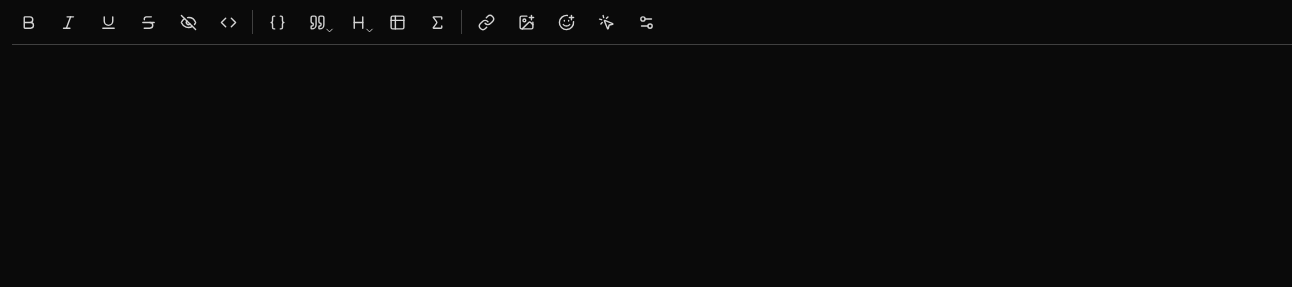
Test case: TelegramTextEditorToolbar › renders heading choices in a viewport-level menu
Click the button named "Heading": (357, 22) [341,6,373,38]
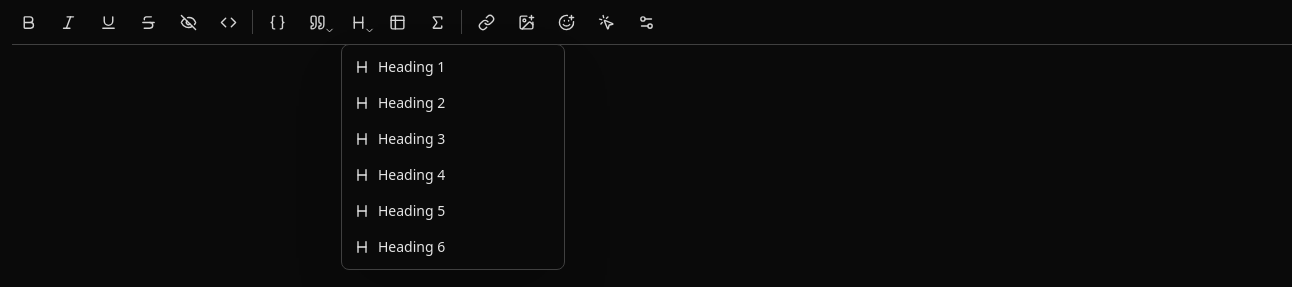
Expected: the menu item "Heading 1" is shown, [346,49,560,85]
